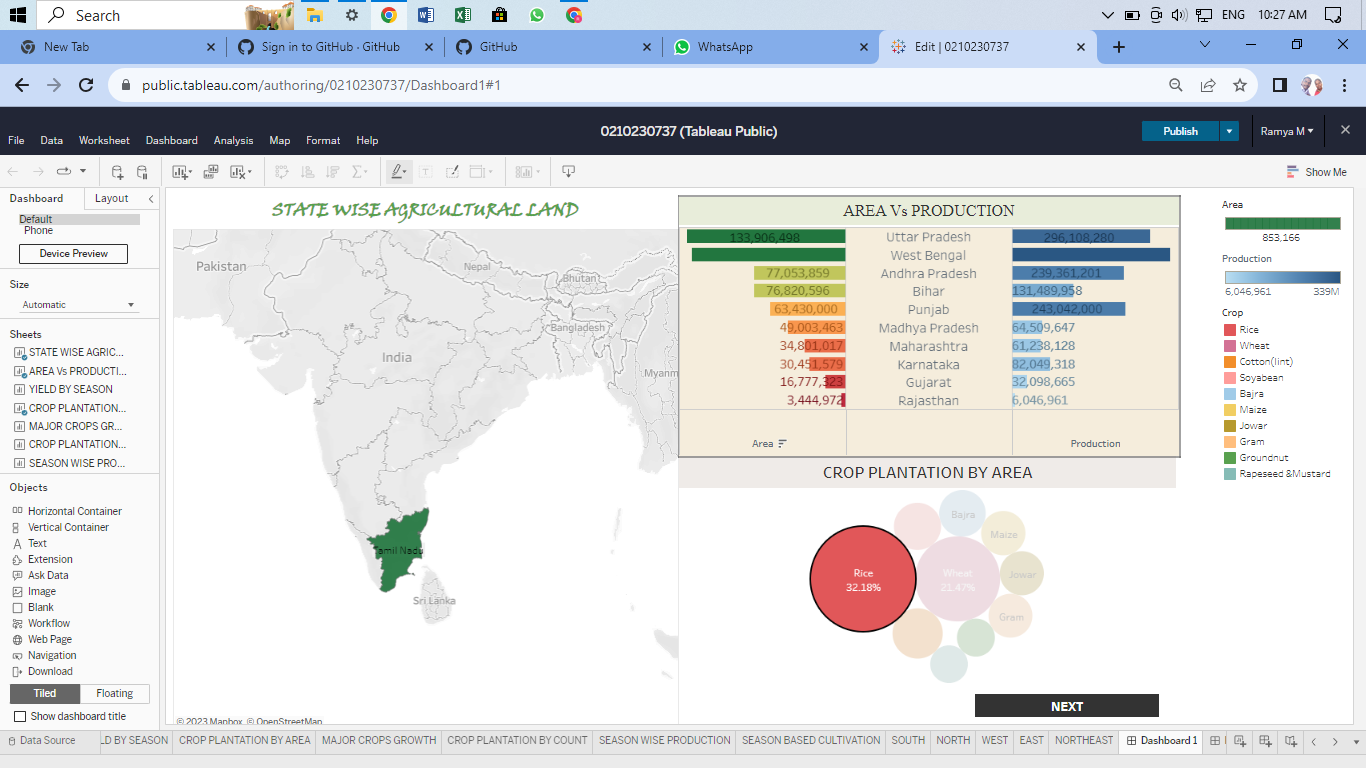

Layout of this report page (visuals, bound fields, positions):
{"tool":"tableau","page":{"name":"Dashboard 1","canvas":[1000,1000],"units":"permille","ordinal":0},"visuals":[{"type":"legend","title":"STATE WISE AGRICULTURAL LAND","param":"[federated.0jbw6hw00qi6cd12y6h290paafz2].[sum:Area:qk]","box":[886.8,11.9,107.8,101.5]},{"type":"worksheet","title":"AREA Vs PRODUCTION","mark":"Automatic","rows":["State"],"cols":["Area","Calculation_102175416883105792","Production"],"box":[432.9,16.6,420.8,483.4]},{"type":"legend","title":"AREA Vs PRODUCTION","param":"[federated.0jbw6hw00qi6cd12y6h290paafz2].[sum:Production:qk]","box":[886.8,113.4,107.8,101.5]},{"type":"legend","title":"CROP PLANTATION BY AREA","param":"[federated.0jbw6hw00qi6cd12y6h290paafz2].[none:Crop:nk]","box":[886.8,214.9,107.8,338.8]},{"type":"worksheet","title":"CROP PLANTATION BY AREA","mark":"Circle","box":[432.9,500,418.2,423.6]},{"type":"dashboard-object","box":[681.4,945.2,155.8,41.5]}]}

Visuals, with their boxes on the dashboard's canvas, which has no fixed pixel size, in thousandths of its width and height (x1, y1, x2, y2). These are canvas units, not pixel positions in the 1366x768 screenshot, which may show the page scaled, cropped or inside an application window:
"STATE WISE AGRICULTURAL LAND" legend: rect(887, 12, 995, 113)
"AREA Vs PRODUCTION" worksheet: rect(433, 17, 854, 500)
"AREA Vs PRODUCTION" legend: rect(887, 113, 995, 215)
"CROP PLANTATION BY AREA" legend: rect(887, 215, 995, 554)
"CROP PLANTATION BY AREA" worksheet (Circle marks): rect(433, 500, 851, 924)
dashboard-object: rect(681, 945, 837, 987)
